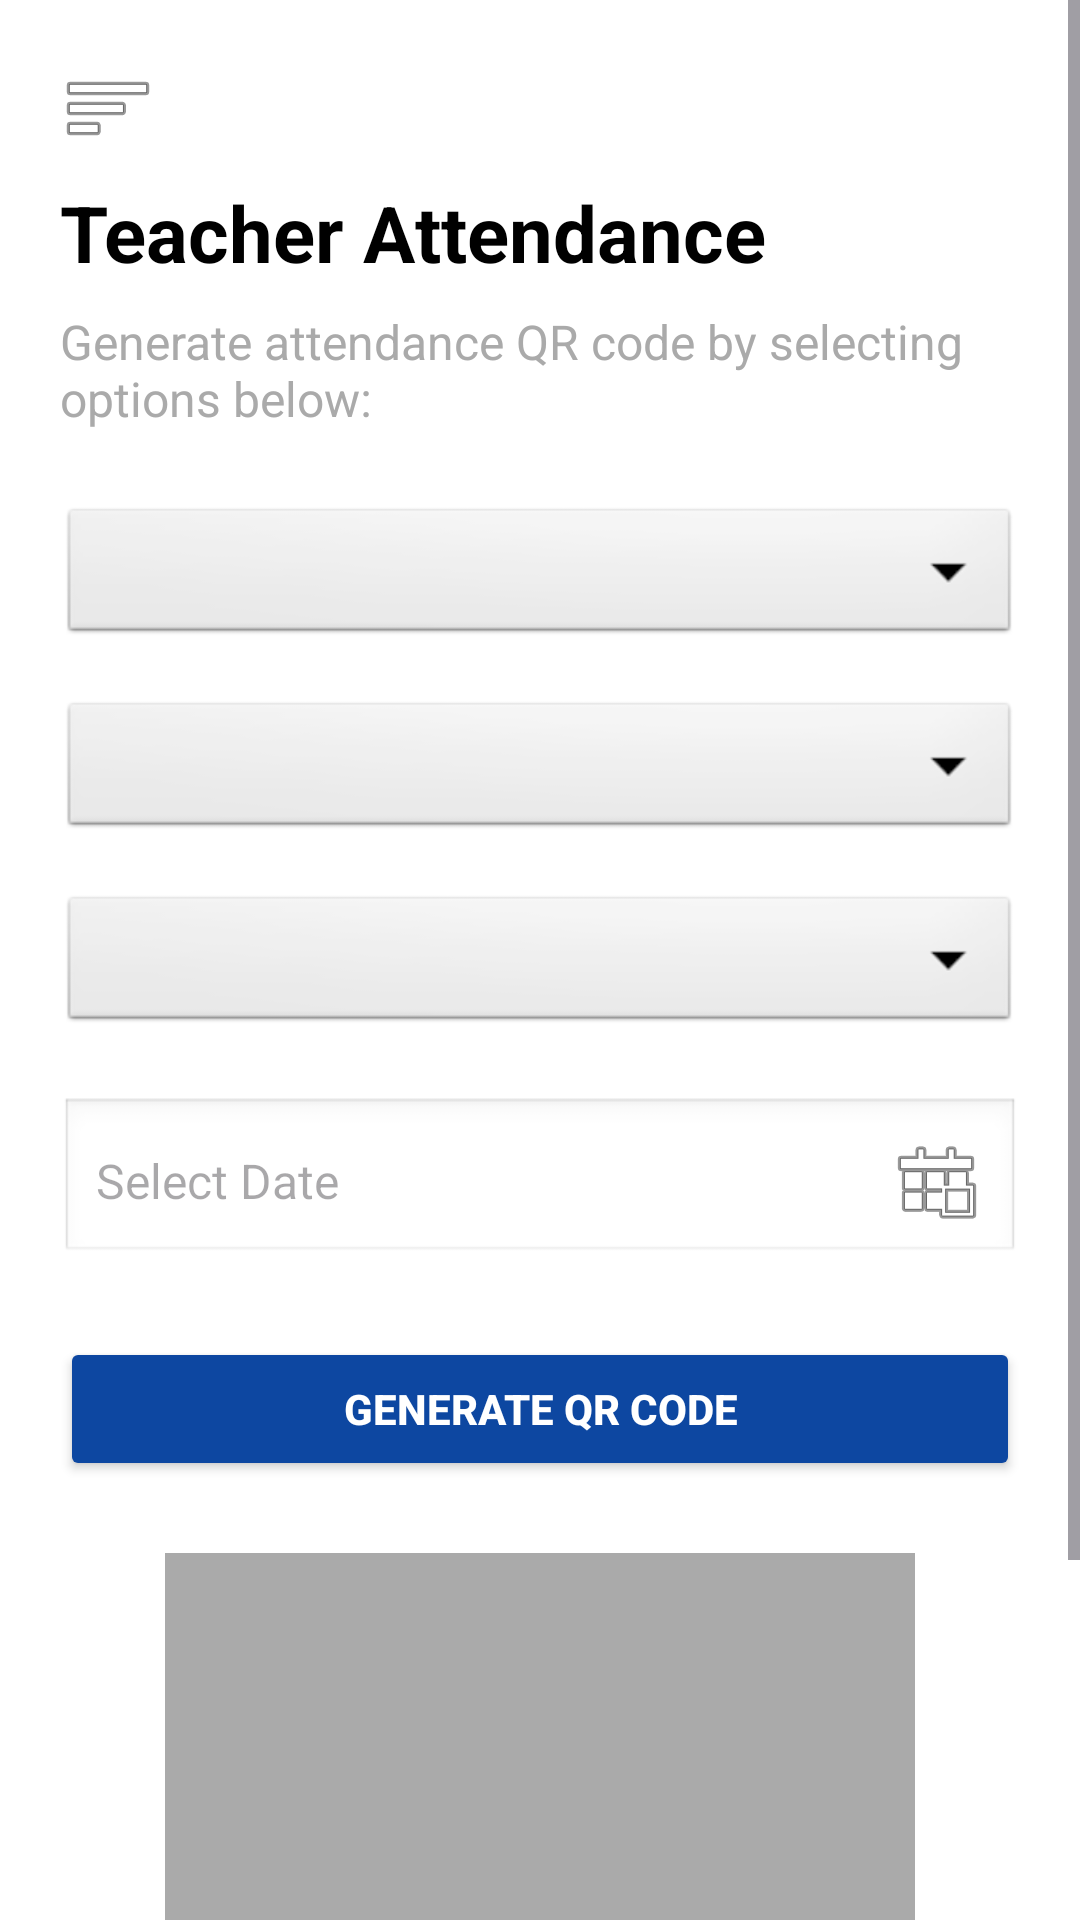

Locate icon controls on the screen. Image size 1080px x 1920px, boxes as (x1,y1,x2,y2).
Toggle Sidebar: (67,82,149,135)
